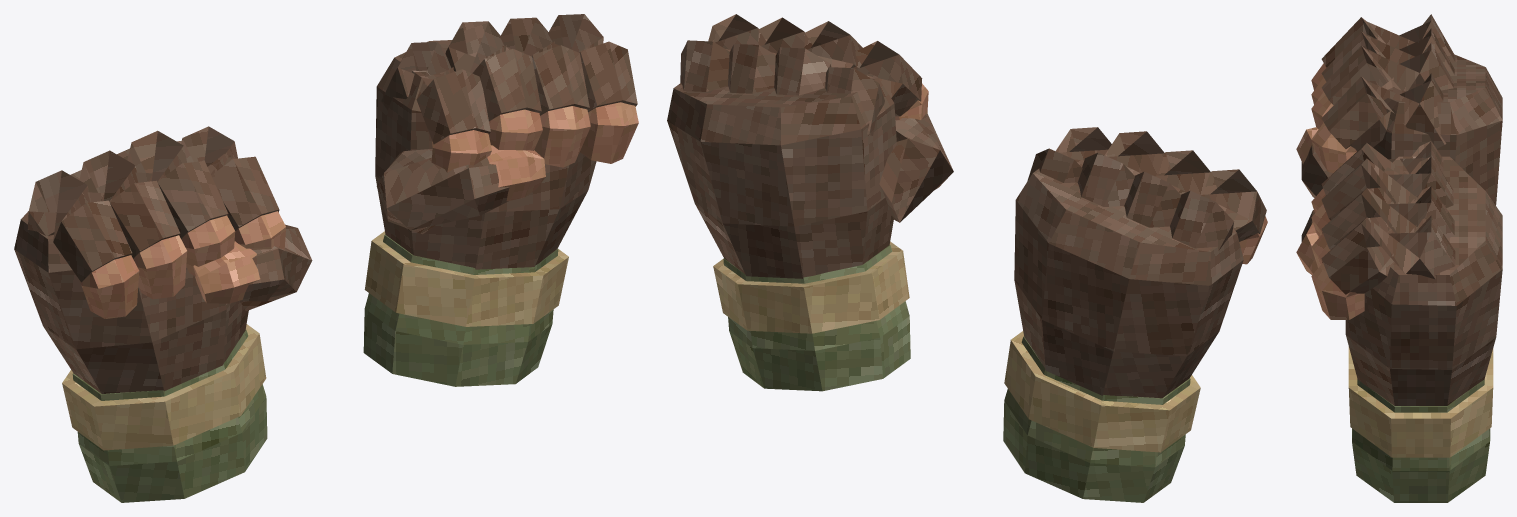
Rendered from 01_fists.glb.
3 views of the same model, side by side, from view 1: azimuth 30°, elevation 25°; view 2: azimuth 150°, elevation 25°; view 3: azimuth 270°, elevation 25° (orthographic). The views are drawn at different scales.
Visible parts, largest first — view 1: 01_fists; view 2: 01_fists; view 3: 01_fists.
Boxes of the visible parts, x1=… form: 01_fists: x1=14, y1=14, x2=638, y2=502; 01_fists: x1=667, y1=14, x2=1267, y2=502; 01_fists: x1=1296, y1=14, x2=1502, y2=502.
Size of the model in its own units: 0.2941 by 0.1847 by 0.098.
1 material, 1 textured.
